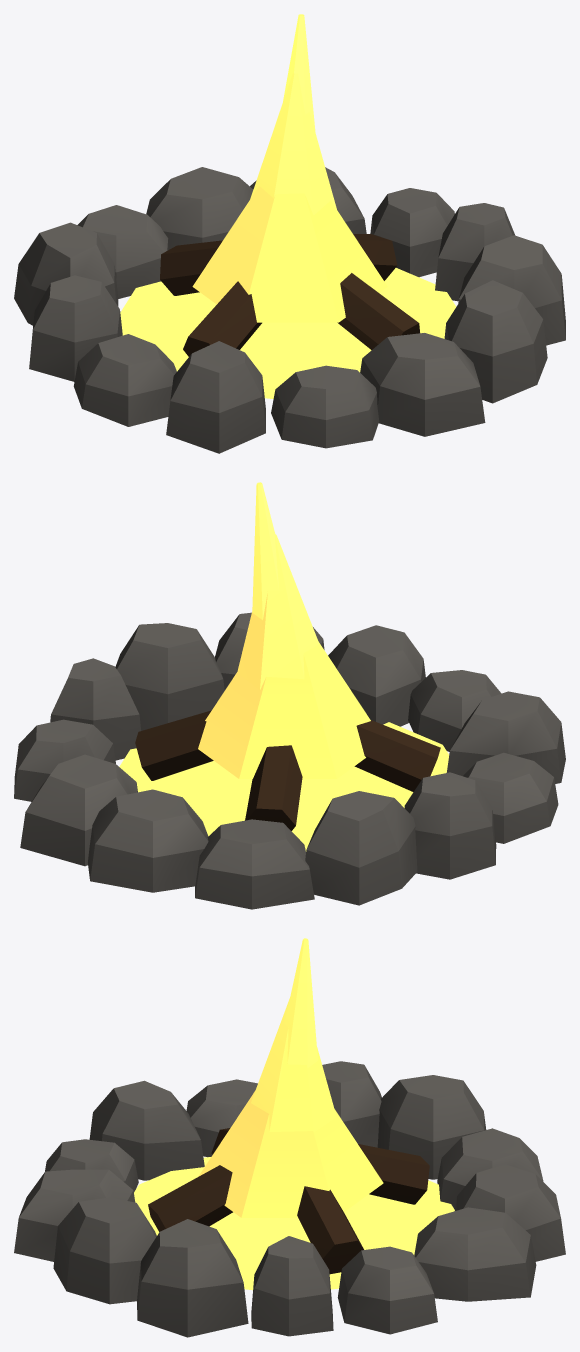
File: kit_campfire.glb
3 views of the same model, one above another, from view 1: azimuth 30°, elevation 25°; view 2: azimuth 150°, elevation 25°; view 3: azimuth 270°, elevation 25° (orthographic). The views are drawn at different scales.
Parts seen in each view (by area): view 1: campfire_stones, fire_flame, fire_glow, campfire_logs; view 2: campfire_stones, fire_flame, campfire_logs, fire_glow; view 3: campfire_stones, fire_flame, campfire_logs, fire_glow.
Part boxes in pixels (<box>): campfire_stones: <box>14,167,565,453</box>; fire_flame: <box>192,14,387,322</box>; fire_glow: <box>120,268,455,399</box>; campfire_logs: <box>160,234,419,356</box>; campfire_stones: <box>14,612,565,909</box>; fire_flame: <box>198,482,370,778</box>; campfire_logs: <box>135,710,440,830</box>; fire_glow: <box>119,722,449,851</box>; campfire_stones: <box>14,1061,565,1337</box>; fire_flame: <box>198,938,383,1217</box>; campfire_logs: <box>148,1128,429,1274</box>; fire_glow: <box>134,1157,454,1290</box>.
Bounding box in the file's own units: 5.61 × 3.58 × 5.93.
